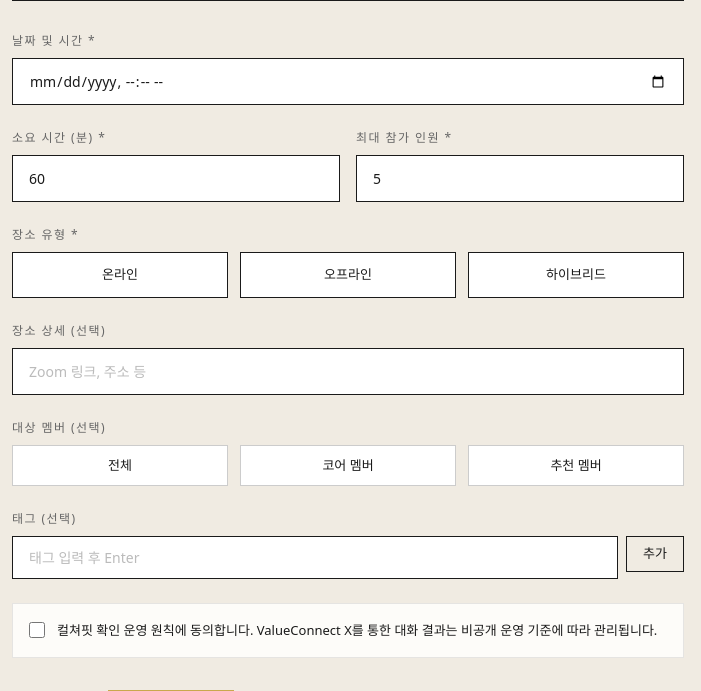
it: SessionForm › removes tag when ✕ button is clicked
(page scrolled)
Type "AI" into the field with placeholder "태그 입력 후 Enter".
click(315, 558); type("AI")  # box left=12, top=536, right=618, bottom=579
Then press Enter
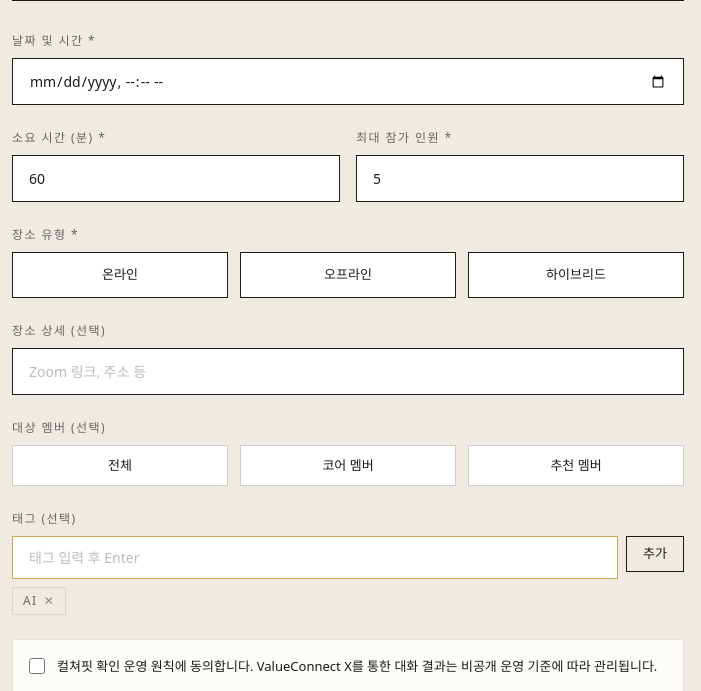
Check: the text "AI" is shown, box left=23, top=592, right=38, bottom=609
Click the button named "AI 제거".
click(49, 601)  # box left=44, top=592, right=55, bottom=610
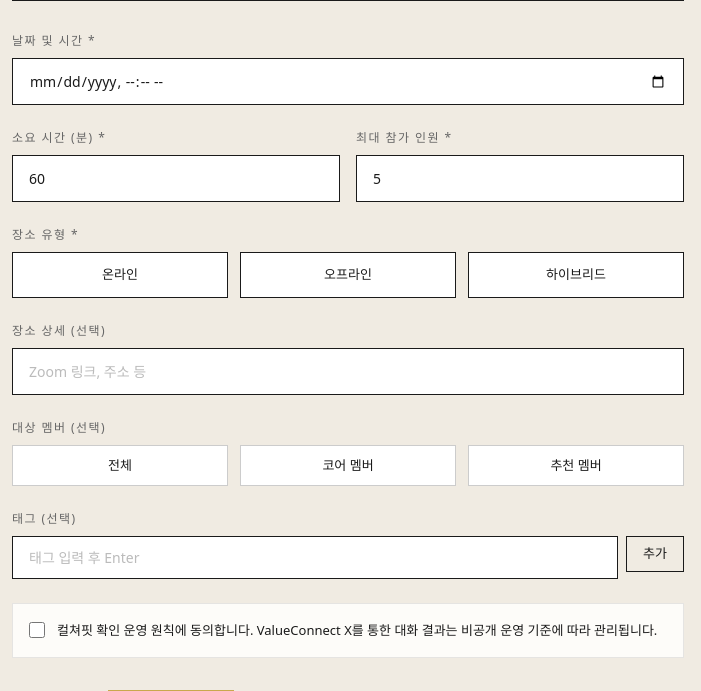
Check: the text "AI" is gone
